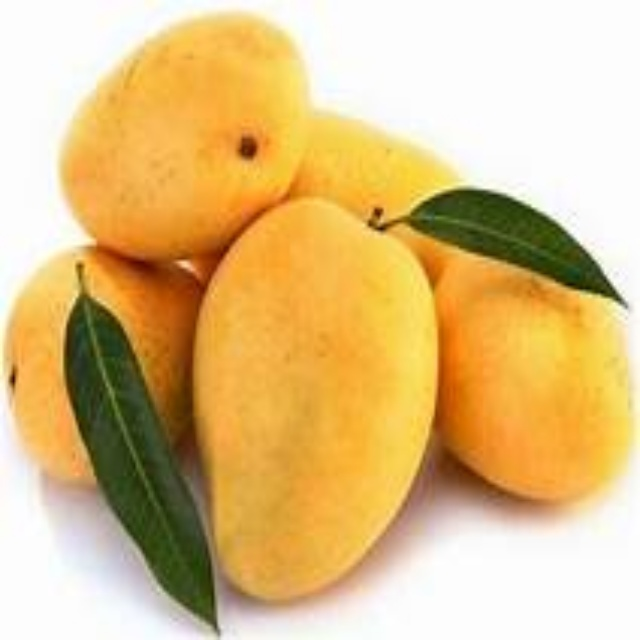mango: (197, 196, 444, 602), (60, 10, 304, 261), (432, 231, 632, 507), (8, 242, 206, 486)
